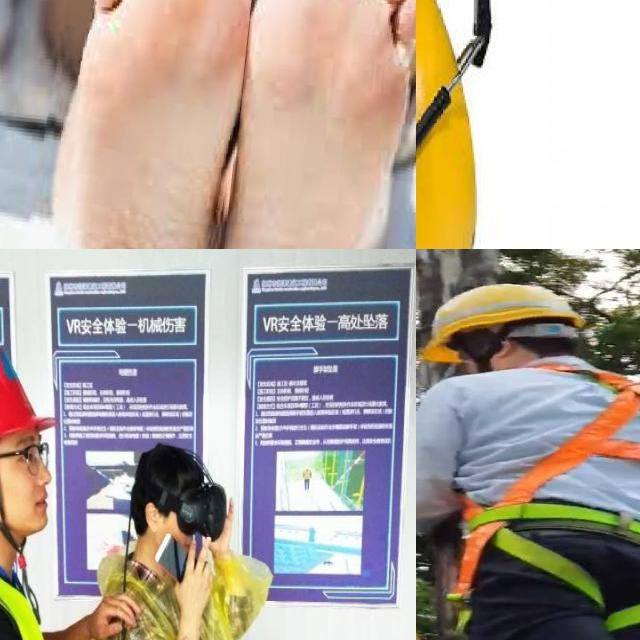Barefoots: (47, 0, 258, 249), (209, 0, 416, 249)
Ear-protection: (416, 0, 508, 249)
Harness: (451, 362, 640, 640)
No_Ear-Protection: (145, 502, 159, 532)
face_nomask: (0, 463, 51, 531)
head_helmet: (0, 349, 55, 437)
